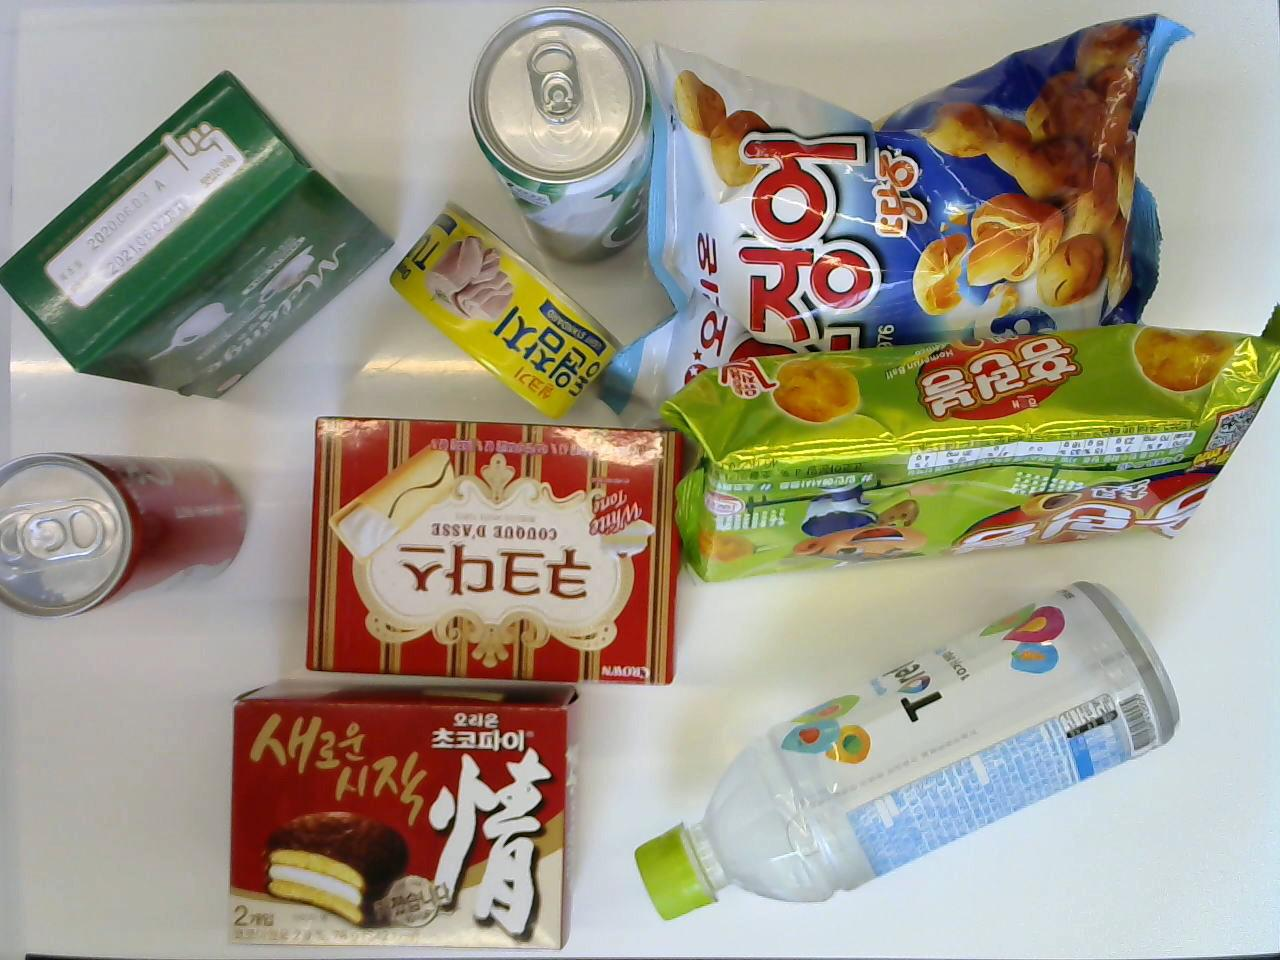chocopie: (230, 677, 577, 960)
cidar: (463, 0, 666, 271)
coke: (0, 444, 248, 618)
couque_coffee: (2, 70, 392, 404)
couque_white: (308, 411, 685, 690)
homerunball: (664, 311, 1276, 589)
squid_peanut: (602, 0, 1208, 409)
toreta: (637, 577, 1186, 928)
tuna: (381, 199, 624, 413)
